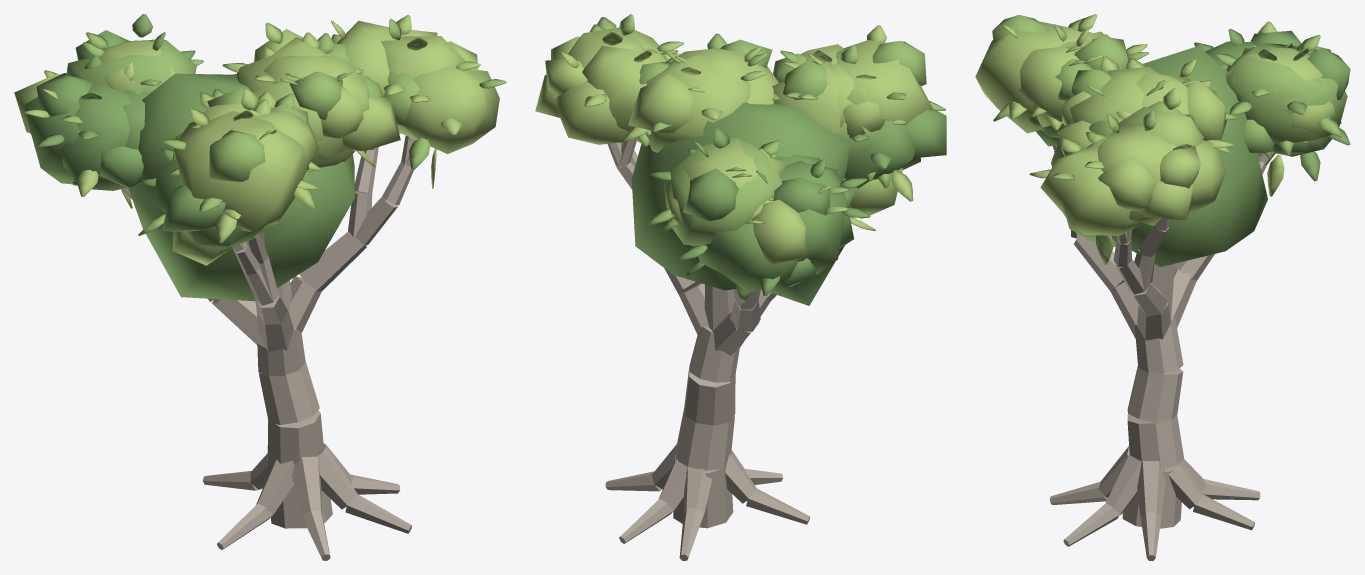
The model's file is Tree_Old_2.gltf.
The picture shows the model from 3 angles, left to right: view 1: azimuth 30°, elevation 25°; view 2: azimuth 150°, elevation 25°; view 3: azimuth 270°, elevation 25°; orthographic projection. The views are drawn at different scales.
Parts seen in each view (by area): view 1: Tree_Old_2; view 2: Tree_Old_2; view 3: Tree_Old_2.
Part boxes in pixels (left/top/right/bottom): Tree_Old_2: left=14, top=14, right=506, bottom=560; Tree_Old_2: left=535, top=14, right=946, bottom=560; Tree_Old_2: left=975, top=14, right=1350, bottom=560.
Bounding box in the file's own units: 3.62 × 4.35 × 3.24.
